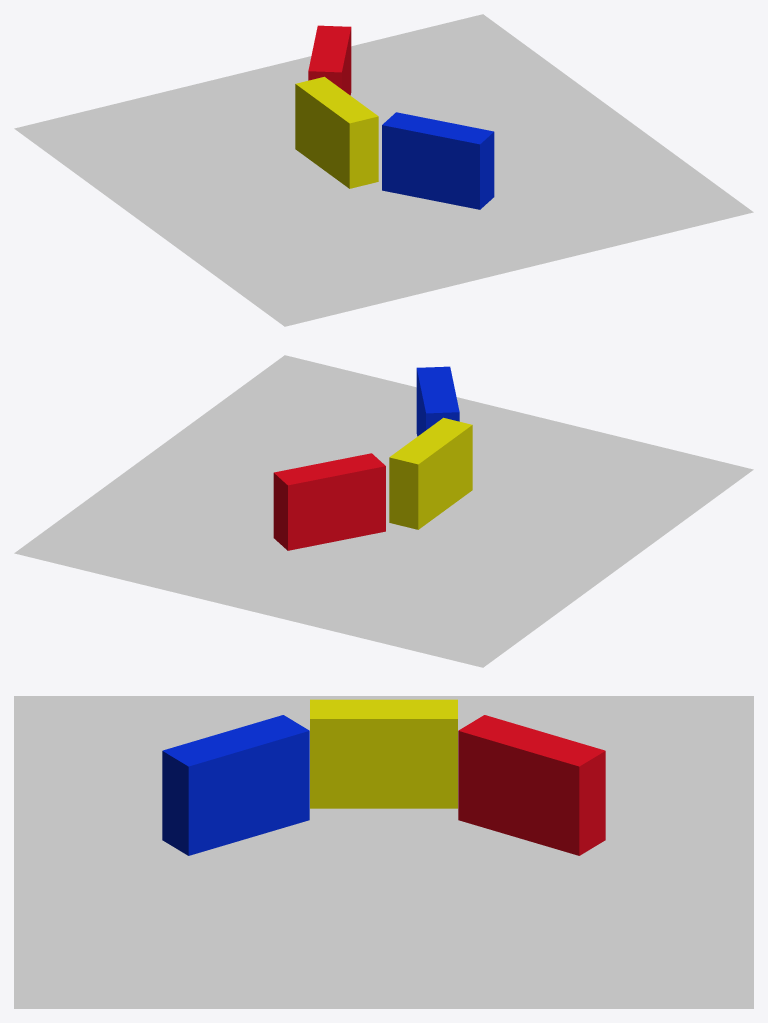
The picture shows the model from 3 angles, top to bottom: view 1: azimuth 30°, elevation 25°; view 2: azimuth 150°, elevation 25°; view 3: azimuth 270°, elevation 25°; orthographic projection. The views are drawn at different scales.
Visible parts, largest first — view 1: Plane, Cube.001, Cube, Cube.002; view 2: Plane, Cube.002, Cube, Cube.001; view 3: Plane, Cube, Cube.001, Cube.002.
Part boxes in pixels (bbox=[...]): Plane: bbox=[14, 14, 753, 326]; Cube.001: bbox=[382, 112, 494, 209]; Cube: bbox=[295, 76, 378, 188]; Cube.002: bbox=[308, 25, 351, 95]; Plane: bbox=[14, 355, 753, 667]; Cube.002: bbox=[273, 453, 385, 550]; Cube: bbox=[389, 417, 472, 529]; Cube.001: bbox=[416, 366, 459, 436]; Plane: bbox=[14, 696, 753, 1008]; Cube: bbox=[310, 699, 457, 808]; Cube.001: bbox=[162, 715, 309, 855]; Cube.002: bbox=[458, 715, 605, 855].
Bounding box in the file's own units: 10 × 1.67 × 10.
